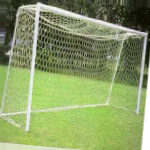goals: (1, 1, 148, 129)
